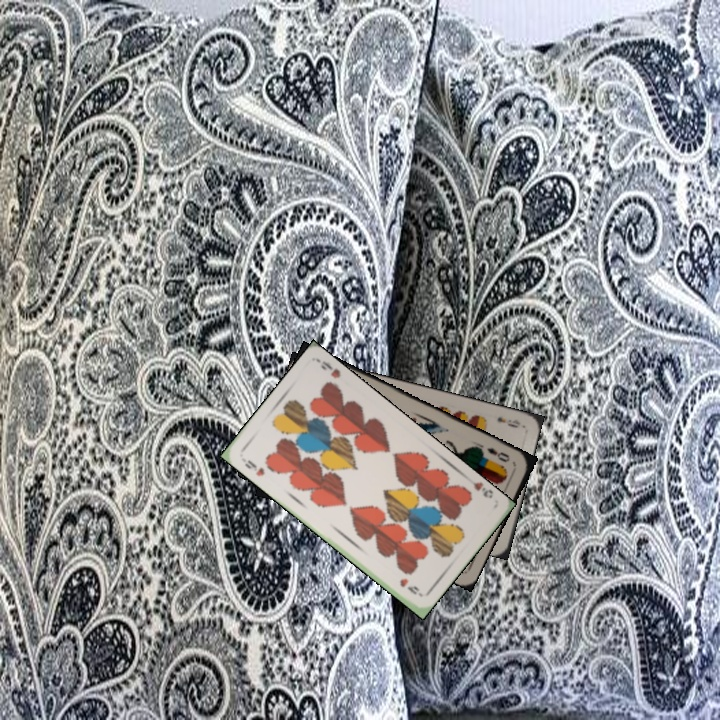E9: (493, 413, 523, 431)
EO: (483, 444, 512, 465)
H9: (469, 478, 496, 501), (241, 456, 267, 479)
